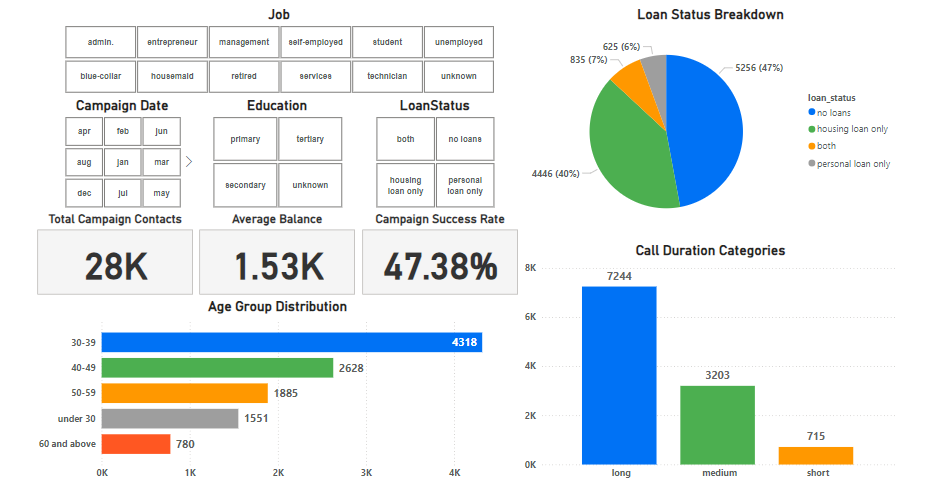

The dashboard page shown, as its layout file describes it:
{"tool":"powerbi","page":{"name":"Campaign Overview","canvas":[1280,720],"ordinal":0},"visuals":[{"type":"cardVisual","title":"Total Campaign Contacts","fields":{"Data":["bank.total_campaign_contacts"]},"box":[0,316.1,240,127.3],"z":0},{"type":"cardVisual","title":"Average Balance","fields":{"Data":["bank.average_balance"]},"box":[240,316.1,240,127.3],"z":1000},{"type":"cardVisual","title":"Campaign Success Rate","fields":{"Data":["bank.campaign_success_rate"]},"box":[480,316.1,240,127.3],"z":2000},{"type":"barChart","title":"Age Group Distribution","fields":{"Category":["bank.age_group"],"Y":["CountNonNull(bank.age_group)"]},"box":[0,443.4,720,276.6],"z":3000},{"type":"pieChart","title":"Loan Status Breakdown","fields":{"Y":["CountNonNull(bank.loan_status)"],"Category":["bank.loan_status"]},"box":[720,11.7,560.5,348.3],"z":4000},{"type":"columnChart","title":"Call Duration Categories","fields":{"Category":["bank.call_duration_category"],"Y":["CountNonNull(bank.call_duration_category)"]},"box":[720,360,560.5,360],"z":5000},{"type":"slicer","title":"Campaign Date","fields":{"Values":["bank.month"]},"box":[20.5,146.3,219.5,169.8],"z":6000},{"type":"slicer","title":"Job","fields":{"Values":["bank.job"]},"box":[20.5,11.7,683.4,134.6],"z":7000},{"type":"slicer","title":"Education","fields":{"Values":["bank.education"]},"box":[240,146.3,240,169.8],"z":7001},{"type":"slicer","title":"LoanStatus","fields":{"Values":["bank.loan_status"]},"box":[480,146.3,223.9,169.8],"z":7002}]}

Visuals, with their boxes on the page's 1280x720 design canvas (x1, y1, x2, y2). These are canvas units, not pixel positions in the 934x483 screenshot, which may show the page scaled, cropped or inside an application window:
"Total Campaign Contacts" cardVisual: <bbox>0, 316, 240, 443</bbox>
"Average Balance" cardVisual: <bbox>240, 316, 480, 443</bbox>
"Campaign Success Rate" cardVisual: <bbox>480, 316, 720, 443</bbox>
"Age Group Distribution" barChart: <bbox>0, 443, 720, 720</bbox>
"Loan Status Breakdown" pieChart: <bbox>720, 12, 1280, 360</bbox>
"Call Duration Categories" columnChart: <bbox>720, 360, 1280, 720</bbox>
"Campaign Date" slicer: <bbox>20, 146, 240, 316</bbox>
"Job" slicer: <bbox>20, 12, 704, 146</bbox>
"Education" slicer: <bbox>240, 146, 480, 316</bbox>
"LoanStatus" slicer: <bbox>480, 146, 704, 316</bbox>
